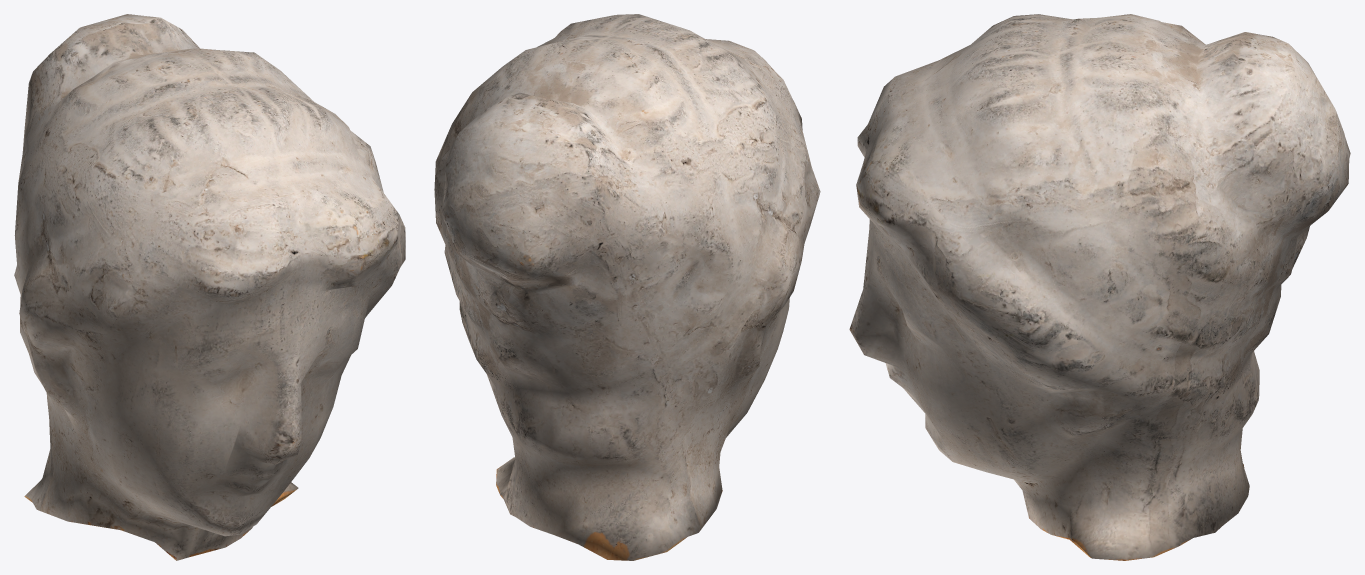
File: Broken_statue.fbx
3 views of the same model, side by side, from view 1: azimuth 30°, elevation 25°; view 2: azimuth 150°, elevation 25°; view 3: azimuth 270°, elevation 25° (orthographic). The views are drawn at different scales.
Visible parts, largest first — view 1: S_Broken_Statuette_ugtkfevhw_lod3_Var1_LOD0; view 2: S_Broken_Statuette_ugtkfevhw_lod3_Var1_LOD0; view 3: S_Broken_Statuette_ugtkfevhw_lod3_Var1_LOD0.
Boxes of the visible parts, x1=… form: S_Broken_Statuette_ugtkfevhw_lod3_Var1_LOD0: x1=14, y1=14, x2=405, y2=560; S_Broken_Statuette_ugtkfevhw_lod3_Var1_LOD0: x1=434, y1=14, x2=820, y2=560; S_Broken_Statuette_ugtkfevhw_lod3_Var1_LOD0: x1=849, y1=14, x2=1350, y2=560.
Bounding box in the file's own units: 10.21 × 13.02 × 12.12.
